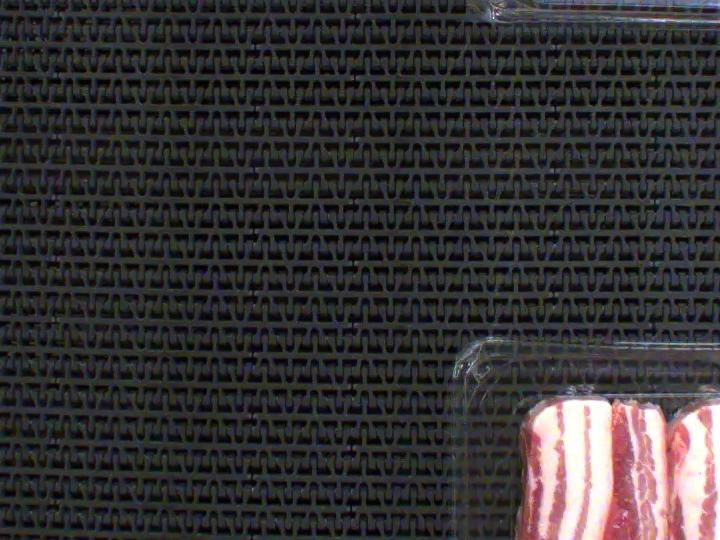unsealed: (522, 372, 720, 417)
